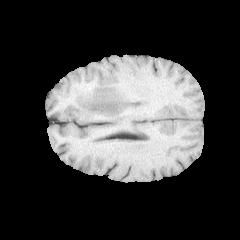glioma: (71, 79, 130, 118)
